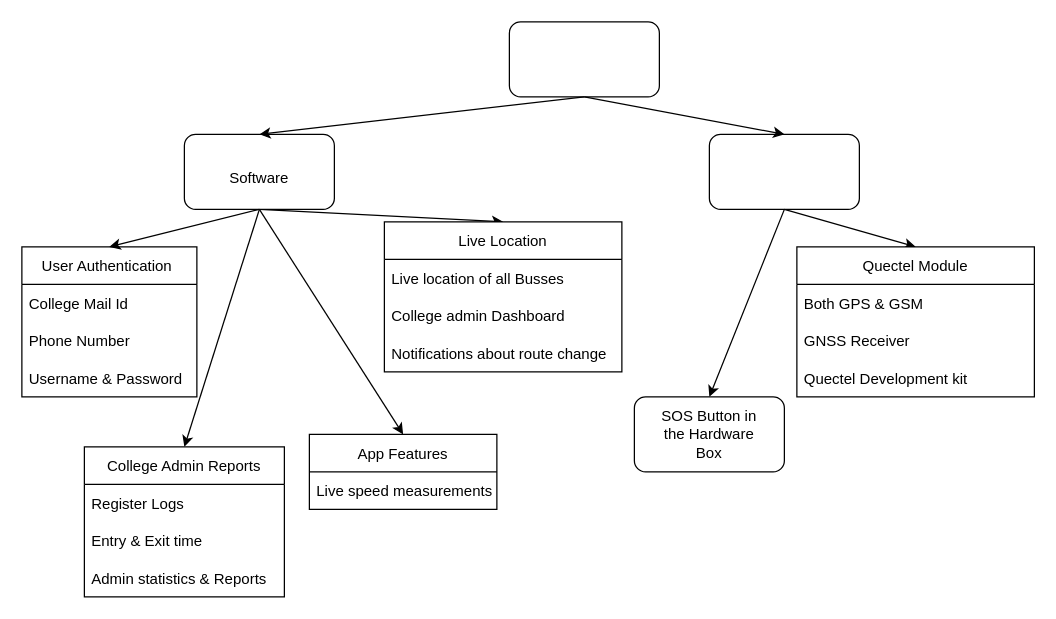
The diagram is 1056 pixels wide and 619 high, and some of its shapes have lost their labels. Here are the shapes that lost their labels. From the top down, the centre of each, then its label:
At (x=583, y=59): "Fleet Management System".
At (x=783, y=171): "Hardware".
